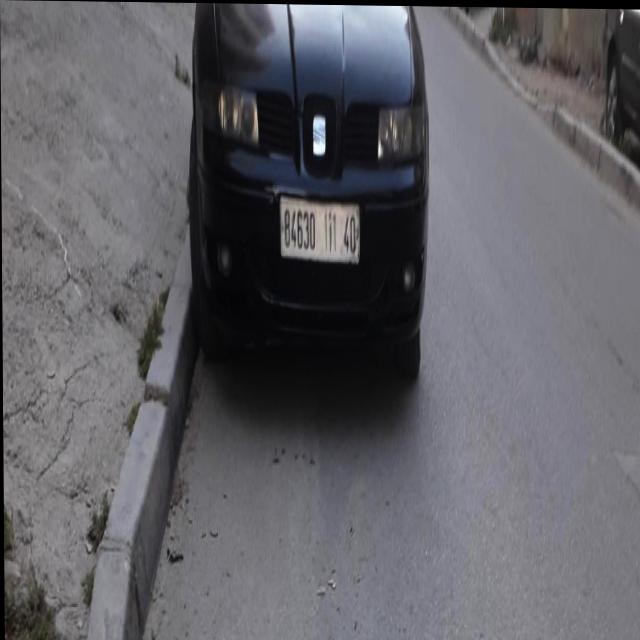License-Plate: (280, 193, 360, 261)
